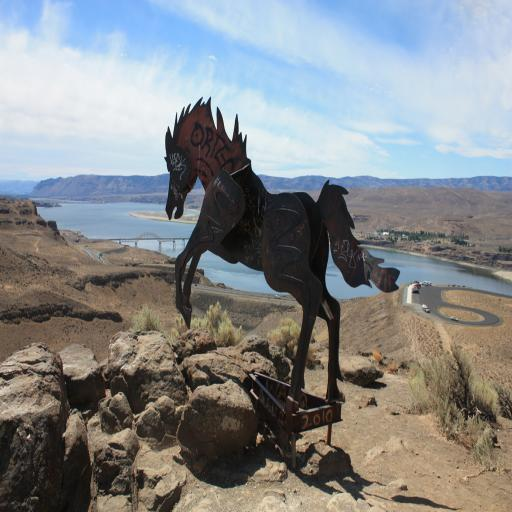Horse: (166, 94, 400, 400)
